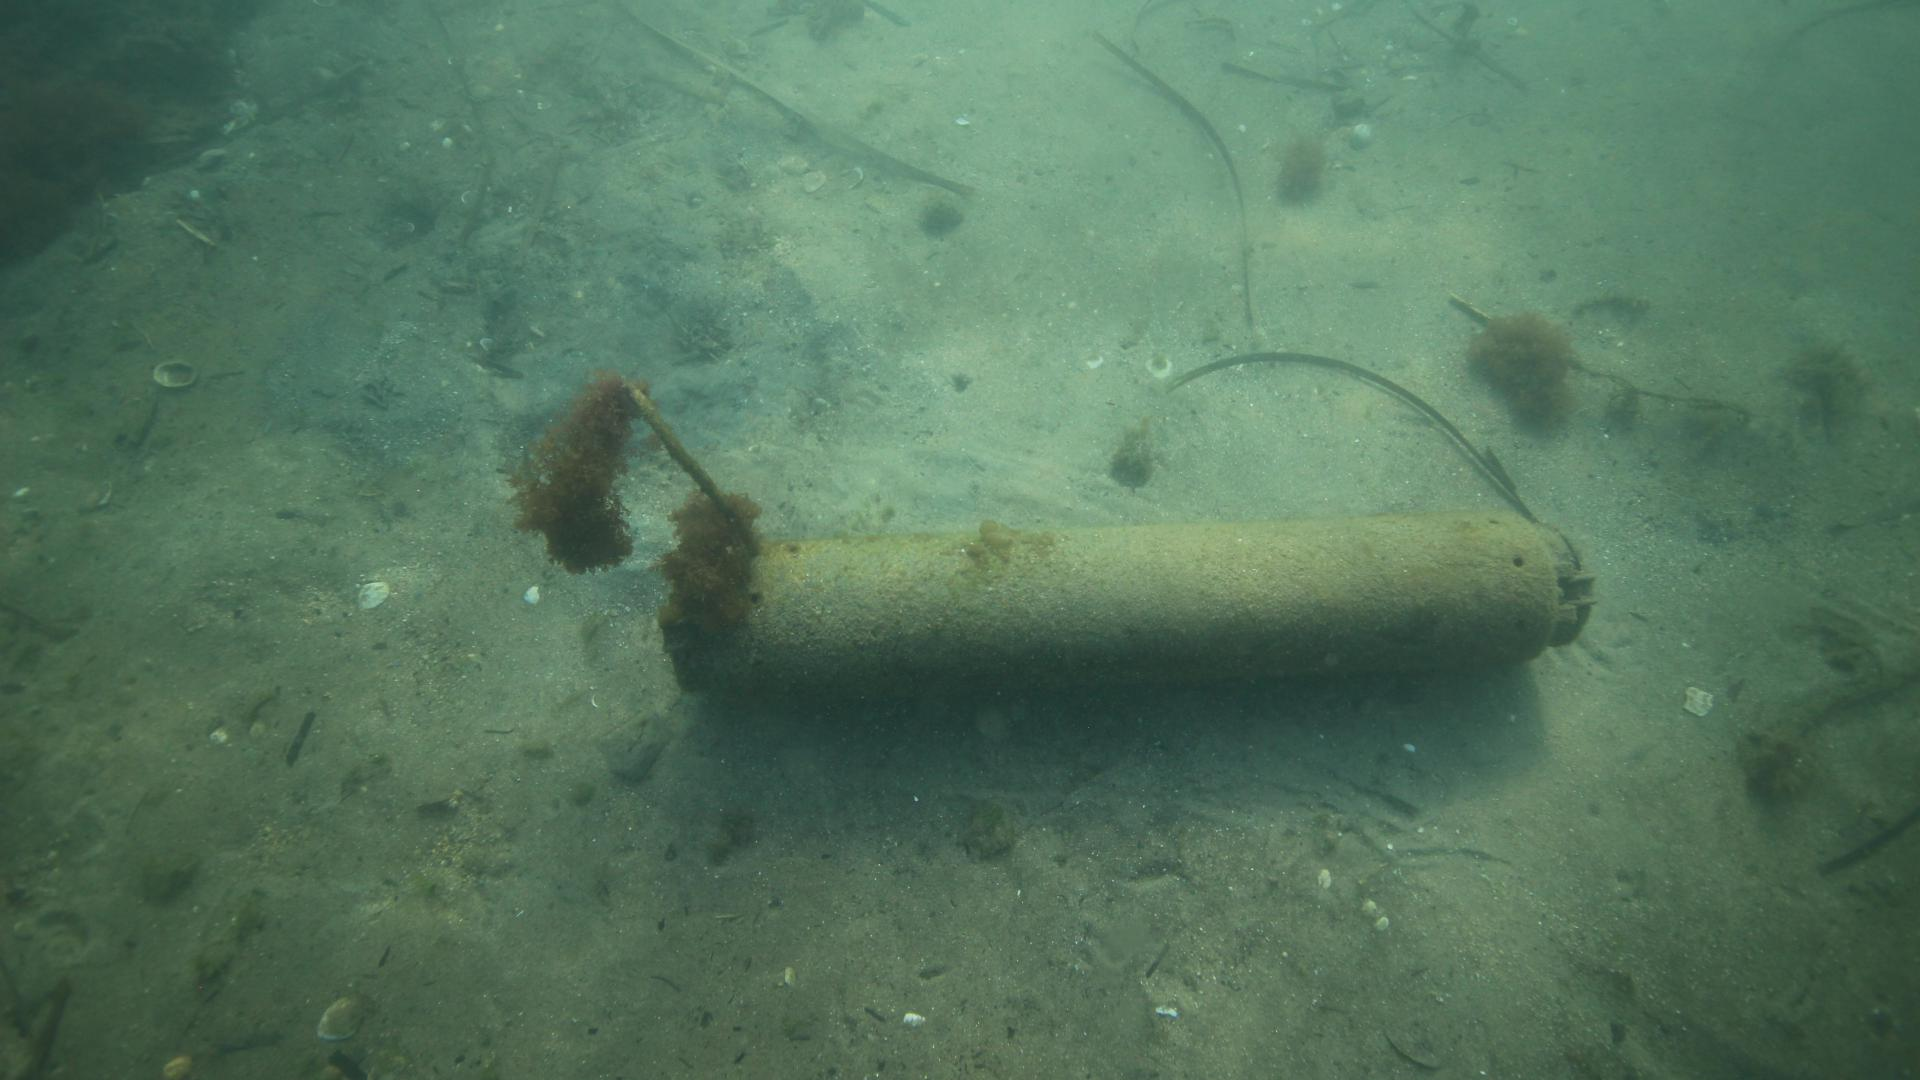eel fish trap: (674, 508, 1604, 698)
